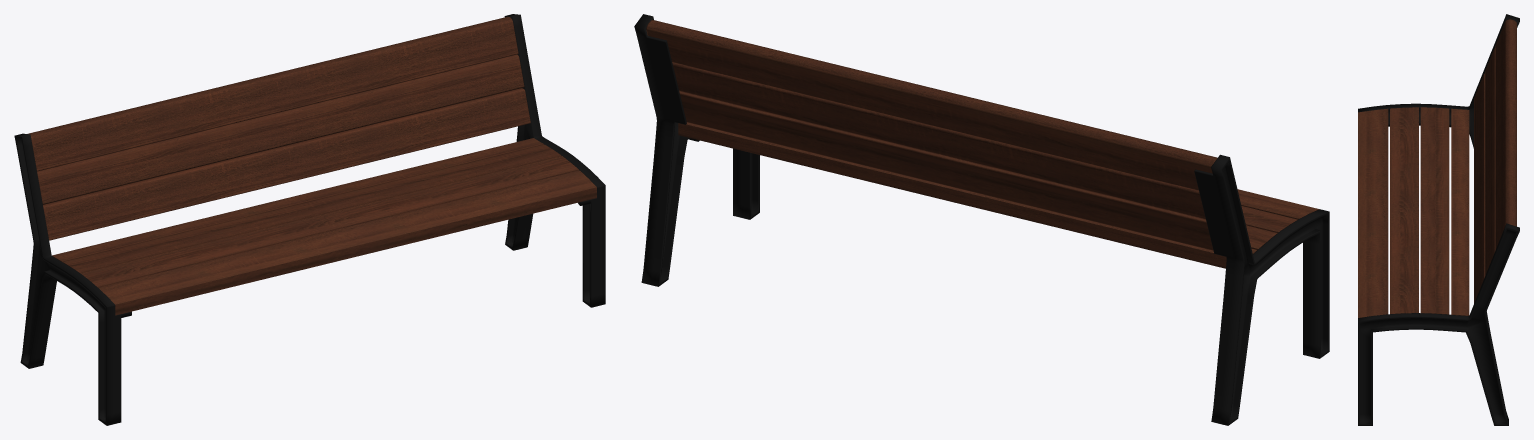
File: cgaxis_models_113_26_fbx_bench.fbx
3 views of the same model, side by side, from view 1: azimuth 30°, elevation 25°; view 2: azimuth 150°, elevation 25°; view 3: azimuth 270°, elevation 25° (orthographic). The views are drawn at different scales.
Parts seen in each view (by area): view 1: cgaxis_models_113_26_01, cgaxis_models_113_26_02; view 2: cgaxis_models_113_26_01, cgaxis_models_113_26_02; view 3: cgaxis_models_113_26_01, cgaxis_models_113_26_02.
Part boxes in pixels (x1,y1,x2,y2): cgaxis_models_113_26_01: [28, 16, 596, 315]; cgaxis_models_113_26_02: [14, 14, 605, 425]; cgaxis_models_113_26_01: [646, 20, 1319, 268]; cgaxis_models_113_26_02: [634, 14, 1329, 425]; cgaxis_models_113_26_01: [1358, 19, 1516, 317]; cgaxis_models_113_26_02: [1358, 14, 1519, 425].
Size of the model in its own units: 74.06 by 32.28 by 23.79.
